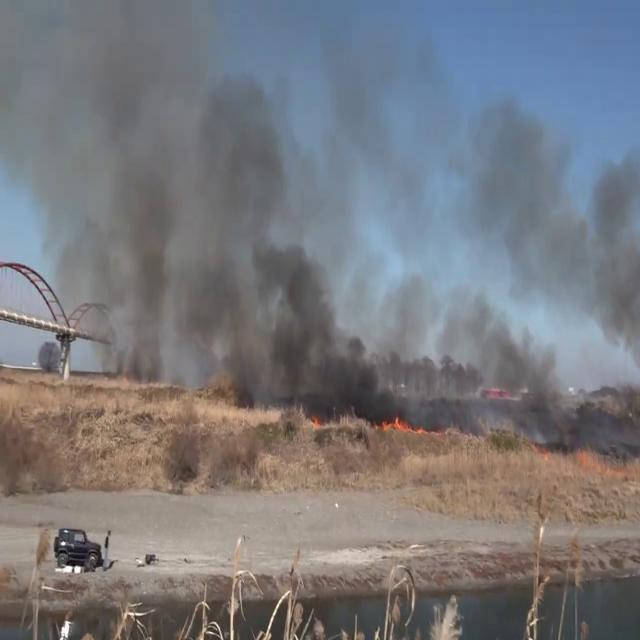Smoke: (0, 0, 402, 369), (395, 35, 640, 420)
